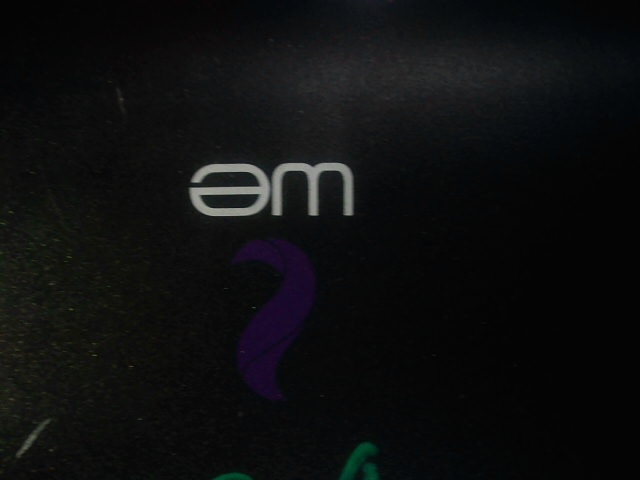AT_We: (176, 153, 358, 400)
